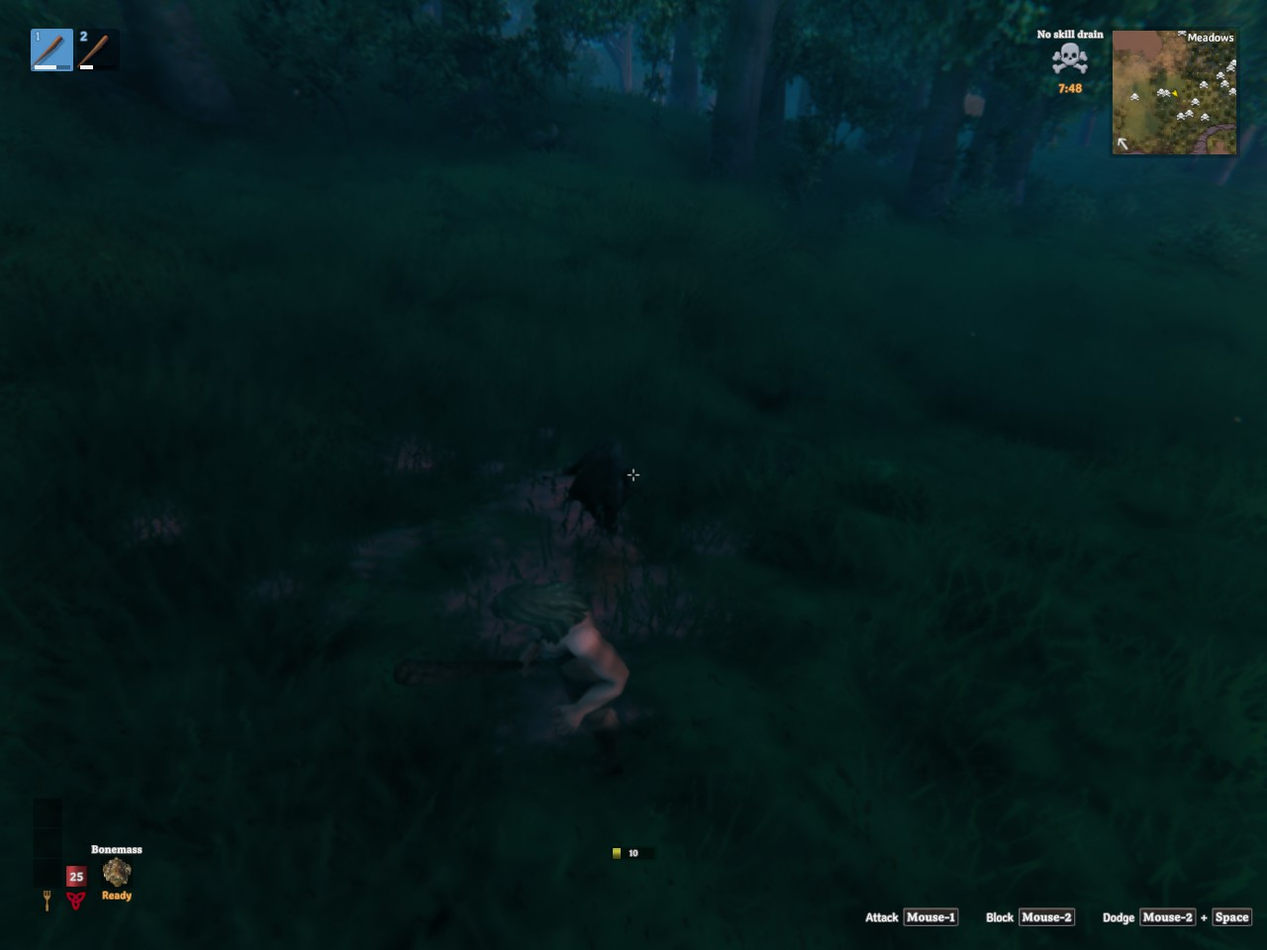Boar: (560, 440, 637, 533)
